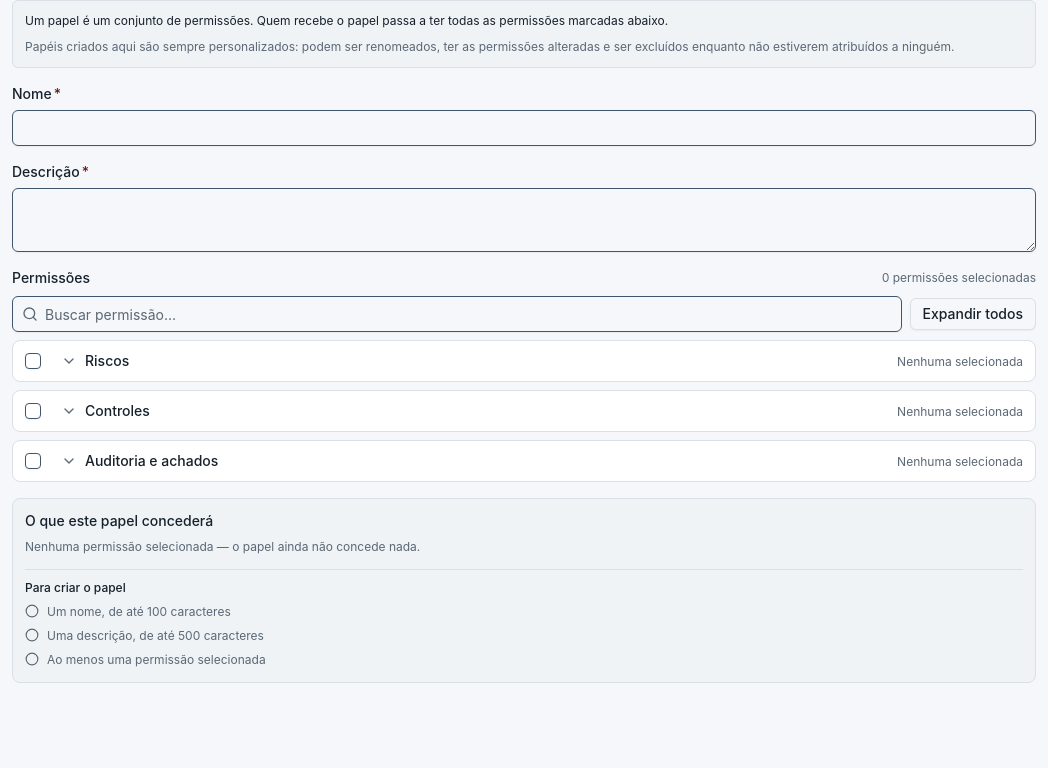
RoleEditFields — composing a NEW role › counts what the role will grant, in permissions and in modules, as it is composed (migrated)
This screenshot has width=1048, height=768.
Expected: the button "Riscos Nenhuma selecionada" is shown, [49,341,1035,381]
Expected: the text "Nenhuma permissão selecionada — o papel ainda não concede nada." is shown, [25,539,420,554]
Step 1. Click the checkbox named "Selecionar todas as permissões de Controles" → (33, 411), box [25,403,41,419]
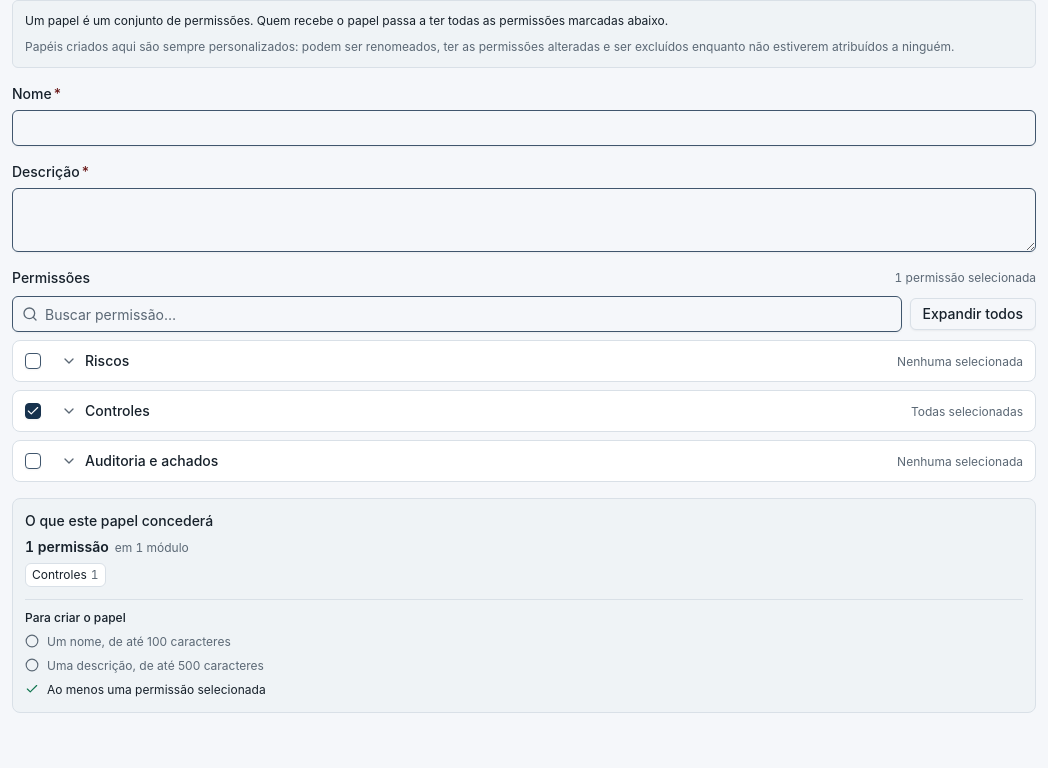
Now the text "1 permissão selecionada" is shown, box [895,270,1036,286]
Now the text "1 permissão" is shown, box [25,537,109,557]
Now the text "em 1 módulo" is shown, box [115,540,189,556]
Step 2. Click the checkbox named "Selecionar todas as permissões de Riscos" → (33, 361), box [25,353,41,369]
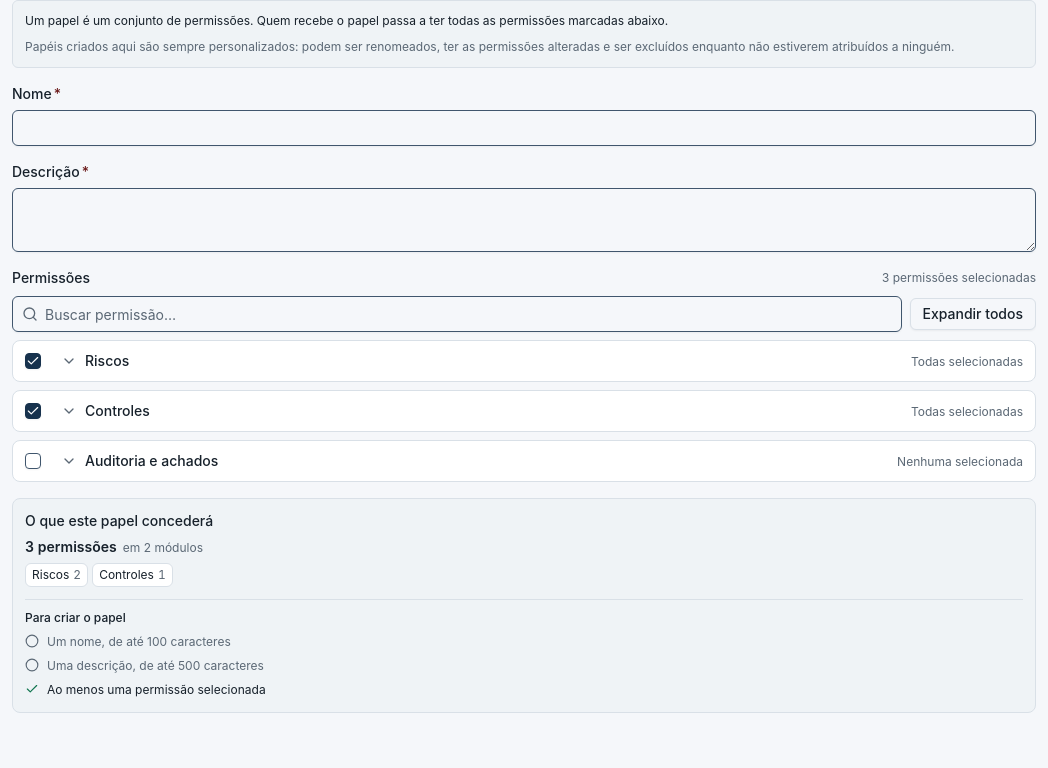
Now the text "3 permissões selecionadas" is shown, box [882,270,1036,286]
Now the text "3 permissões" is shown, box [25,537,117,557]
Now the text "em 2 módulos" is shown, box [123,540,203,556]
